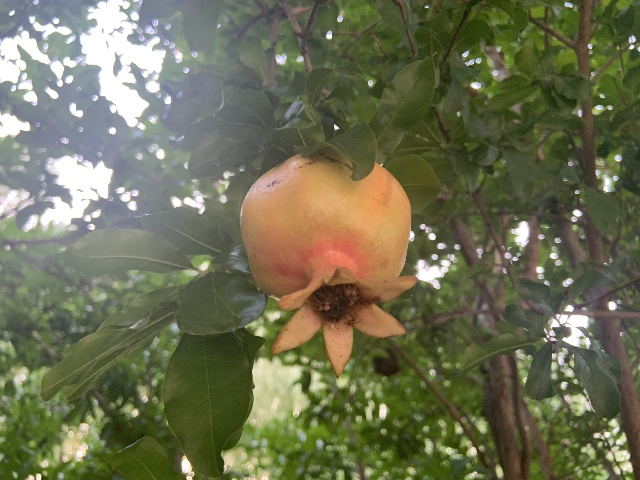mid-growth: (239, 152, 418, 378)
